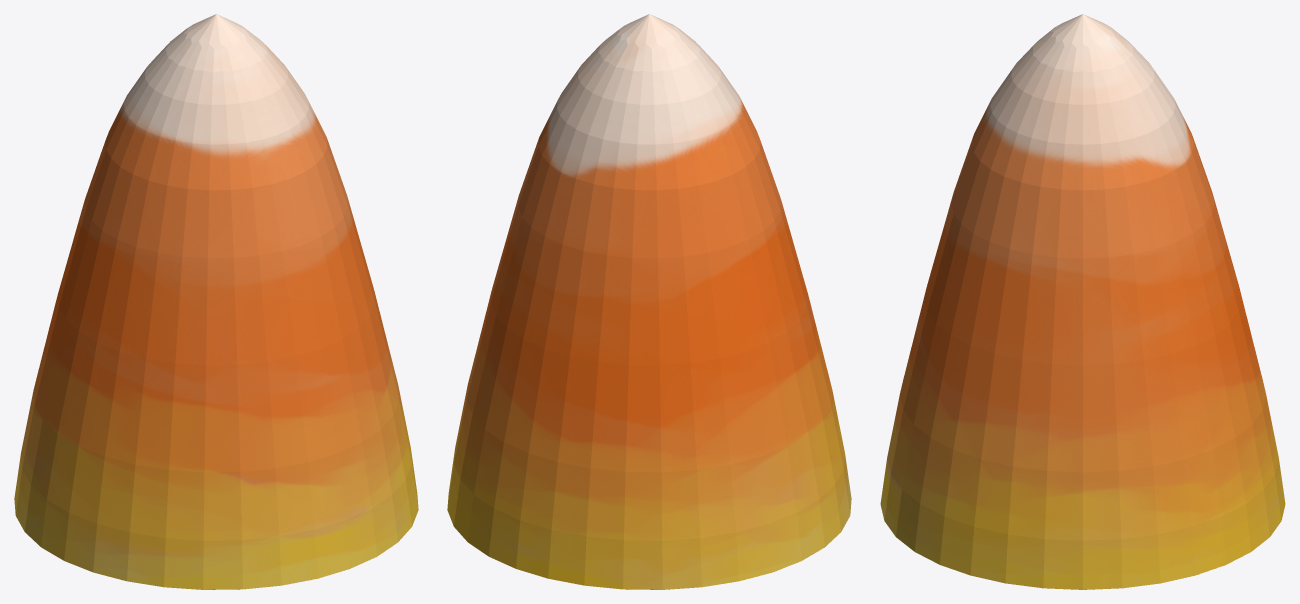
Rendered from candycone.obj.
3 views of the same model, side by side, from view 1: azimuth 30°, elevation 25°; view 2: azimuth 150°, elevation 25°; view 3: azimuth 270°, elevation 25° (orthographic).
Parts seen in each view (by area): view 1: Cone; view 2: Cone; view 3: Cone.
Boxes of the visible parts, x1,y1,x2,y2 form: Cone: [14, 14, 418, 589]; Cone: [447, 14, 851, 589]; Cone: [880, 14, 1285, 589].
Bounding box in the file's own units: 1.21 × 1.62 × 1.21.
1 material, 1 textured.
